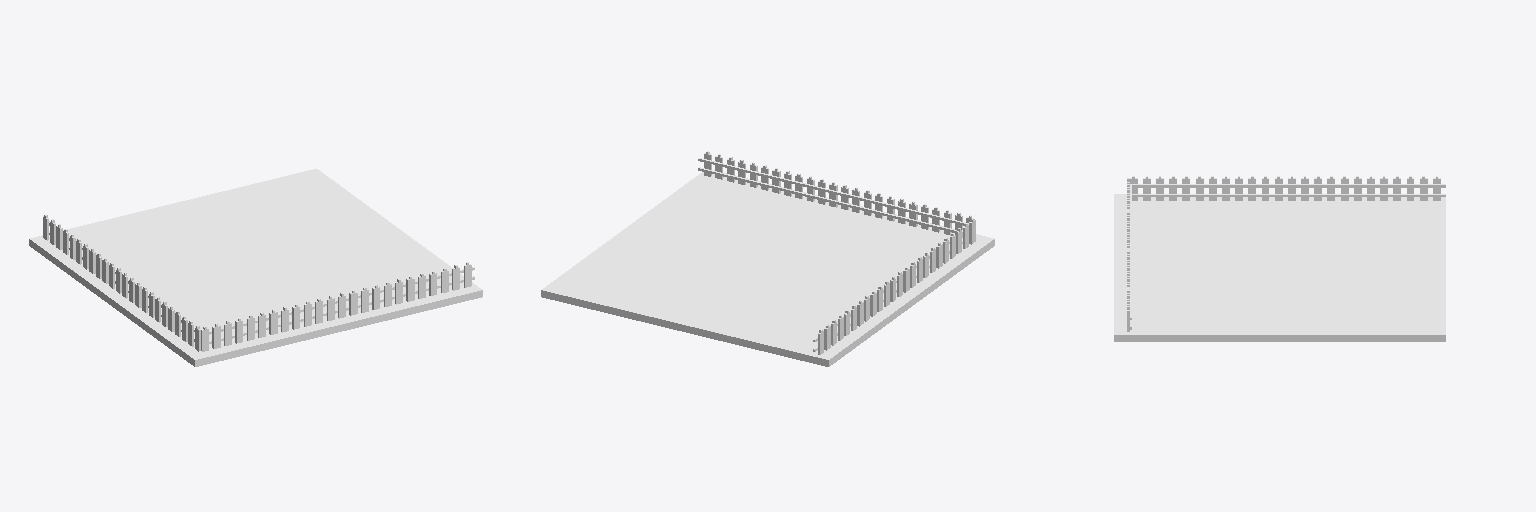
Rendered from funland-1.obj.
3 views of the same model, side by side, from view 1: azimuth 30°, elevation 25°; view 2: azimuth 150°, elevation 25°; view 3: azimuth 270°, elevation 25° (orthographic).
Visible parts, largest first — view 1: object 1; view 2: object 1; view 3: object 1.
Boxes of the visible parts, <box> form: object 1: <box>29,169,482,366</box>; object 1: <box>541,151,994,366</box>; object 1: <box>1114,176,1445,341</box>.
Bounding box in the file's own units: 12.6 × 1.3 × 12.6.